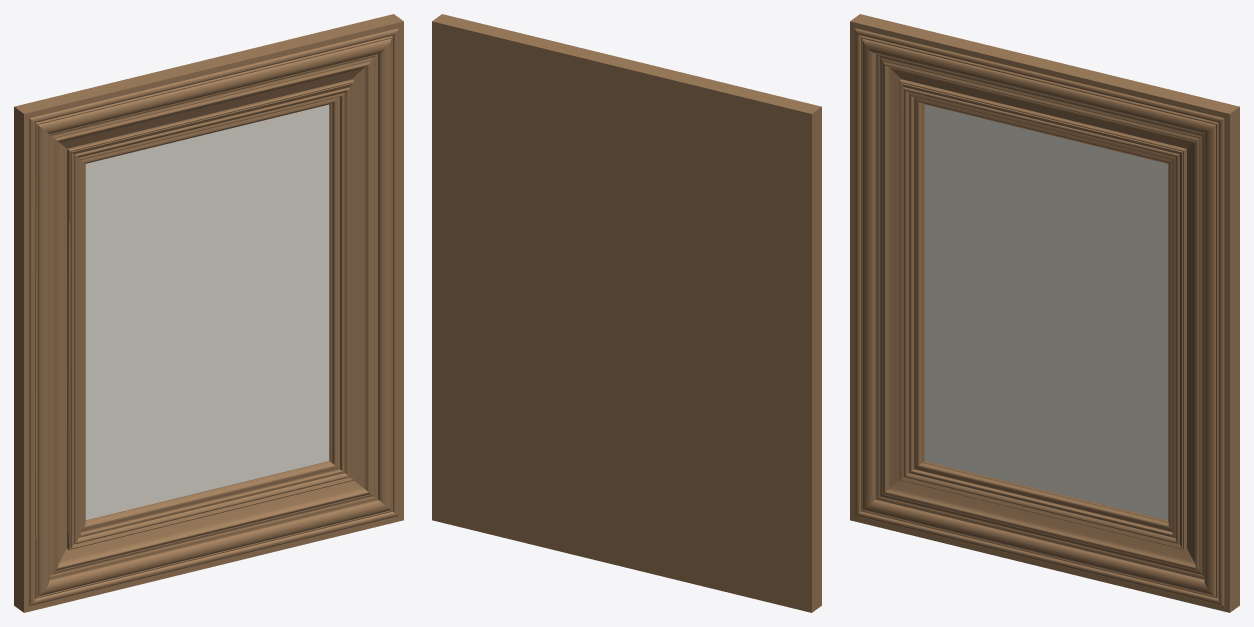
Rendered from ergoflex-picture-frame-1.glb.
3 views of the same model, side by side, from view 1: azimuth 30°, elevation 25°; view 2: azimuth 150°, elevation 25°; view 3: azimuth 330°, elevation 25° (orthographic).
Visible parts, largest first — view 1: Supplied picture-frame-1 part 0, Supplied picture-frame-1 part 1; view 2: Supplied picture-frame-1 part 0; view 3: Supplied picture-frame-1 part 0, Supplied picture-frame-1 part 1.
Boxes of the visible parts, x1=… form: Supplied picture-frame-1 part 0: x1=14, y1=14, x2=403, y2=612; Supplied picture-frame-1 part 1: x1=85, y1=104, x2=329, y2=520; Supplied picture-frame-1 part 0: x1=432, y1=14, x2=821, y2=612; Supplied picture-frame-1 part 0: x1=850, y1=14, x2=1239, y2=612; Supplied picture-frame-1 part 1: x1=924, y1=104, x2=1168, y2=520.
Bounding box in the file's own units: 0.255 × 0.32 × 0.0139.
